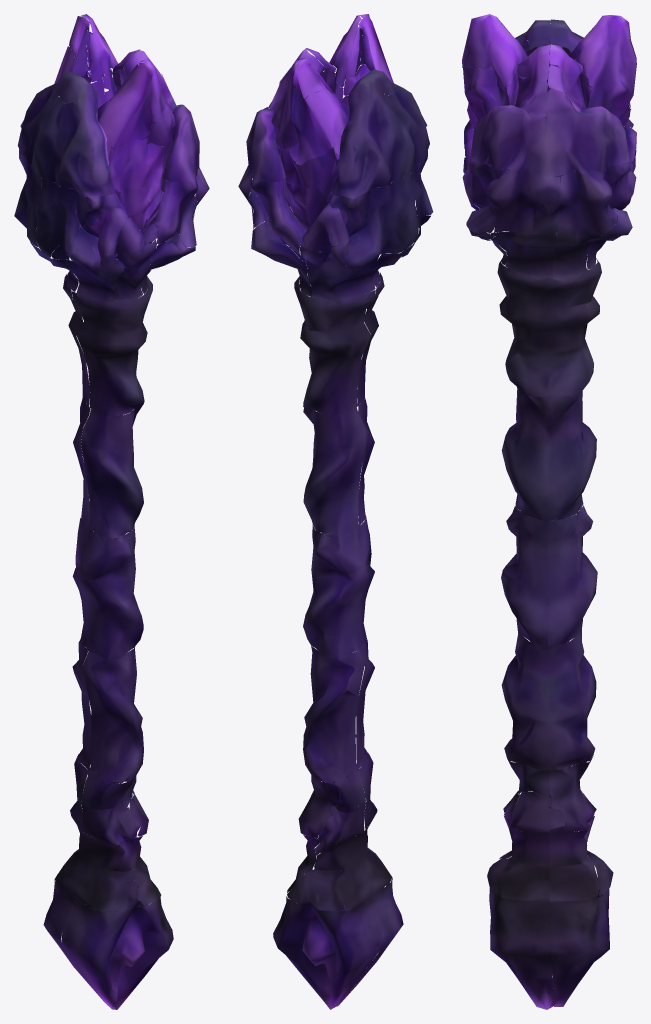
The model's file is staff4.glb.
3 renders of one model, left to right at view 1: azimuth 30°, elevation 25°; view 2: azimuth 150°, elevation 25°; view 3: azimuth 270°, elevation 25°, orthographic. The views are drawn at different scales.
Visible parts, largest first — view 1: staff4; view 2: staff4; view 3: staff4.
Boxes of the visible parts, x1,y1,x2,y2 form: staff4: (14,14,209,1009); staff4: (238,14,433,1009); staff4: (462,14,636,1009).
Bounding box in the file's own units: 0.1689 × 1 × 0.1589.
1 material, 1 textured.
